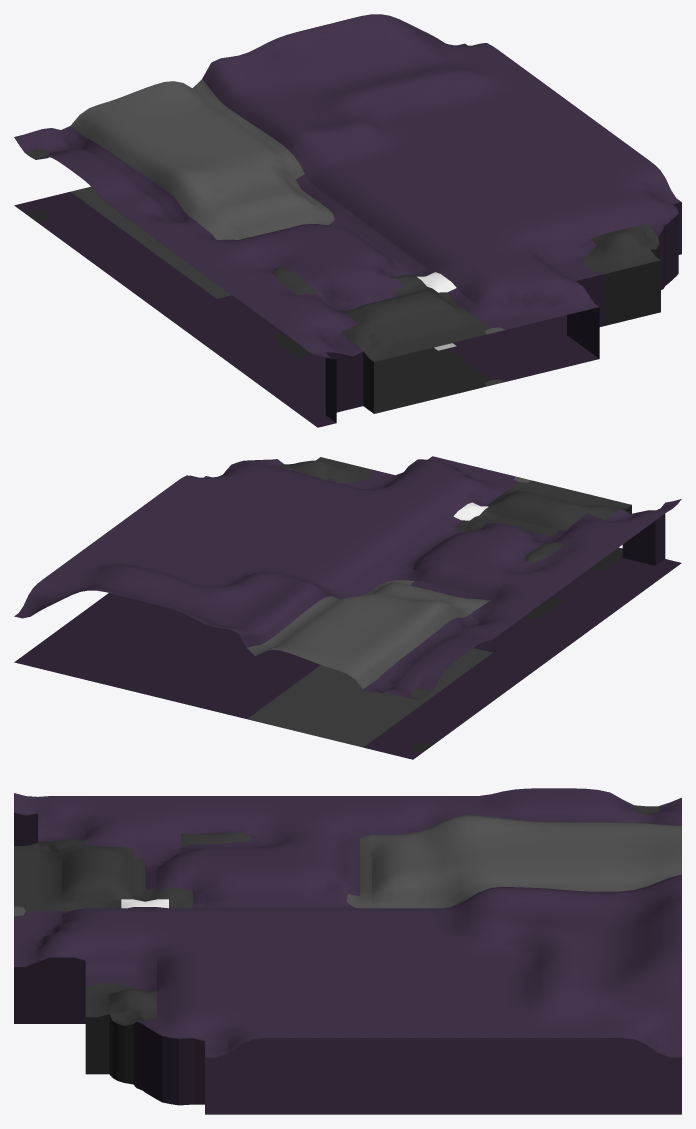
The model's file is delbld-hull-294.glb.
3 renders of one model, top to bottom at view 1: azimuth 30°, elevation 25°; view 2: azimuth 150°, elevation 25°; view 3: azimuth 270°, elevation 25°, orthographic. The views are drawn at different scales.
Visible parts, largest first — view 1: delbld-hull-294; view 2: delbld-hull-294; view 3: delbld-hull-294.
Boxes of the visible parts, box(x1,y1,x2,y2) form: delbld-hull-294: box(14, 14, 681, 427); delbld-hull-294: box(14, 456, 681, 759); delbld-hull-294: box(14, 788, 681, 1114).
Bounding box in the file's own units: 2 × 0.4439 × 2.33.
Materials: 6 (6 with a texture image).
